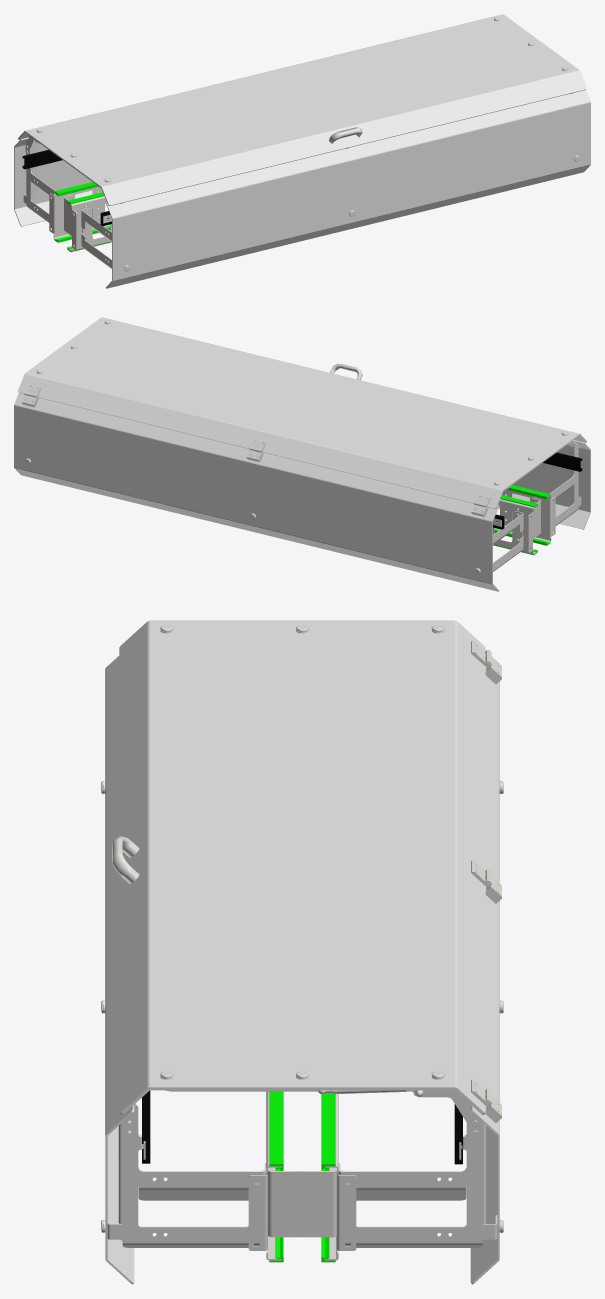
3 views of the same model, one above another, from view 1: azimuth 30°, elevation 25°; view 2: azimuth 150°, elevation 25°; view 3: azimuth 270°, elevation 25° (orthographic). The views are drawn at different scales.
Visible parts, largest first — view 1: glass, base; view 2: glass, base; view 3: glass, base.
Part boxes in pixels (left/top/right/bottom): glass: left=14, top=14, right=590, bottom=288; base: left=14, top=17, right=590, bottom=281; glass: left=14, top=317, right=590, bottom=591; base: left=14, top=320, right=590, bottom=590; glass: left=105, top=620, right=499, bottom=1284; base: left=101, top=625, right=503, bottom=1284.
Bounding box in the file's own units: 2 × 0.4104 × 0.726.
Materials: 1 (1 with a texture image).
